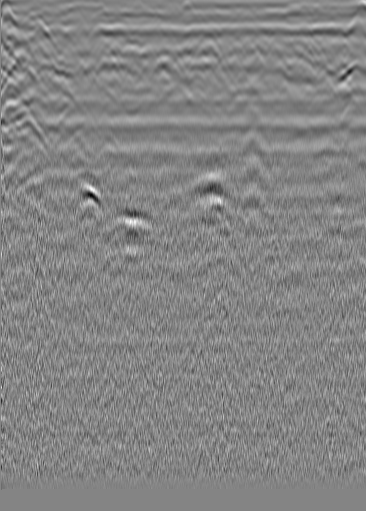가스: (104, 211, 145, 241)
상수: (333, 38, 353, 58)
오수: (27, 17, 47, 37)
우수: (200, 28, 220, 48)
